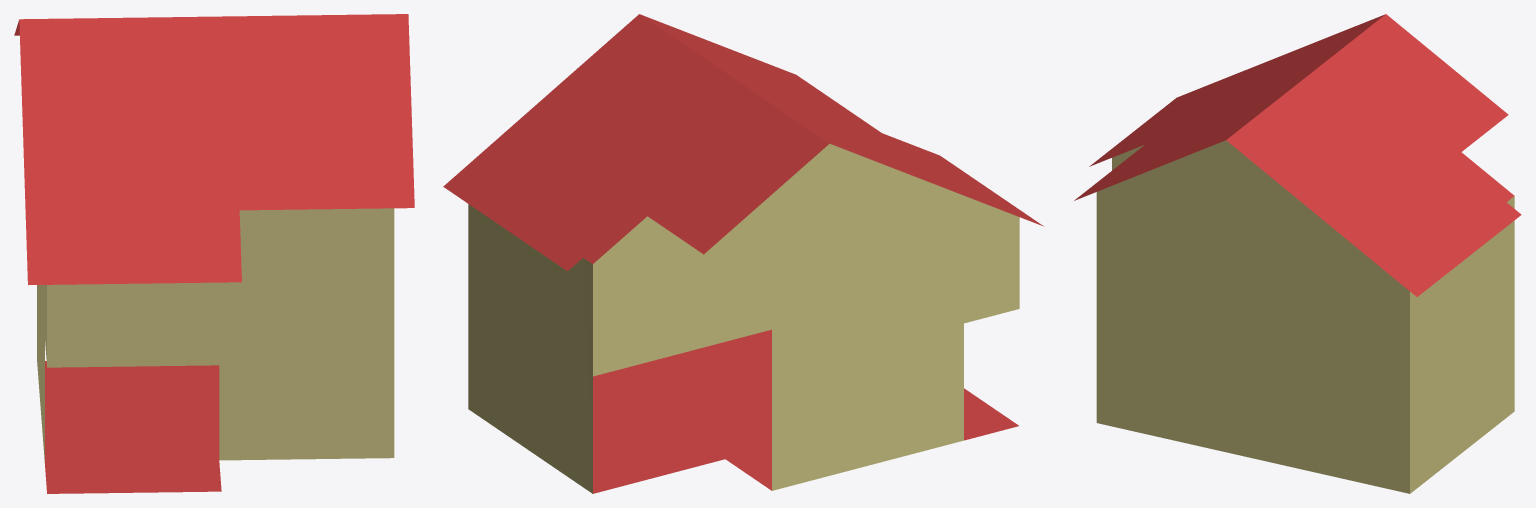
3 views of the same model, side by side, from view 1: azimuth 30°, elevation 25°; view 2: azimuth 150°, elevation 25°; view 3: azimuth 270°, elevation 25° (orthographic). The views are drawn at different scales.
Bounding box in the file's own units: 14.92 × 13.03 × 10.27.
